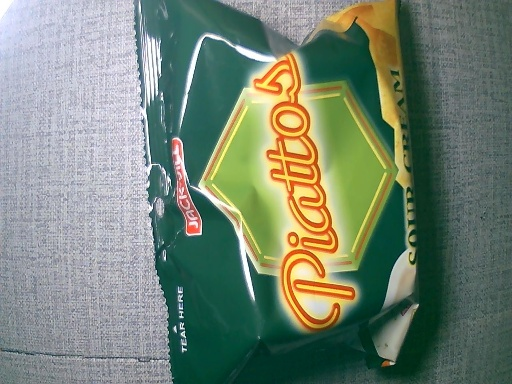plastic: (139, 7, 411, 384)
